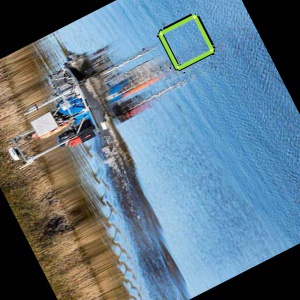square: (152, 11, 217, 72)
